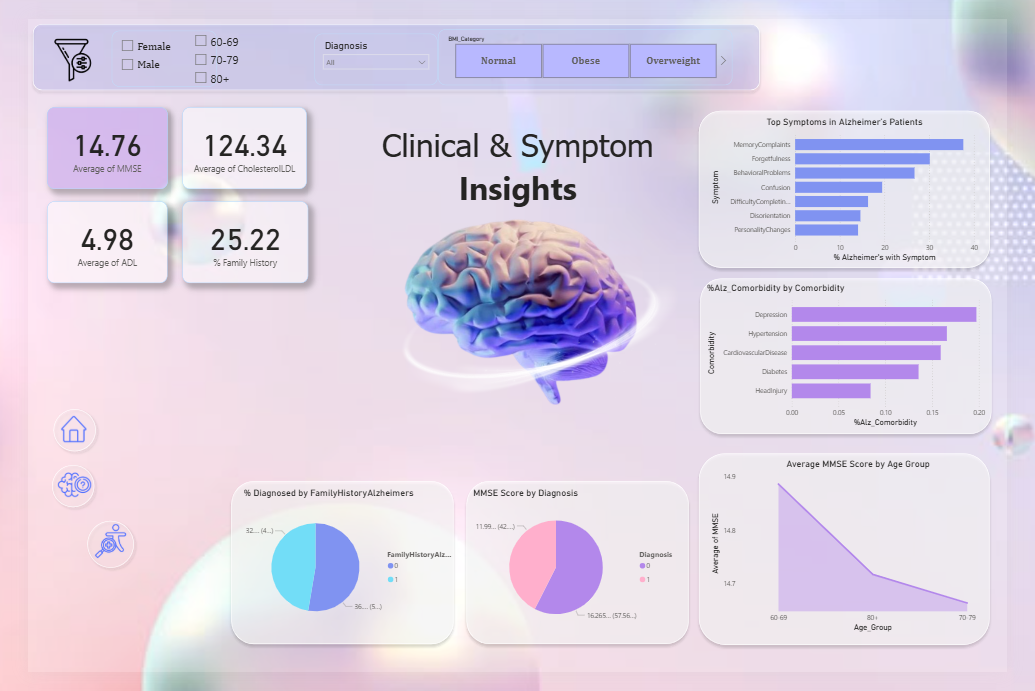

What the dashboard file says about the page in this screenshot:
{"tool":"powerbi","page":{"name":"Clinical & Symptom Insights","canvas":[1800,1200],"ordinal":2},"visuals":[{"type":"shape","box":[0,0,1354.5,140],"z":0},{"type":"image","box":[641,269.2,515.4,517.9],"z":1000},{"type":"shape","box":[364.3,841.1,426.8,317.9],"z":2000},{"type":"shape","box":[1226.7,466.7,553.3,304.4],"z":3000},{"type":"shape","box":[1223.5,788.2,552.9,370.6],"z":4000},{"type":"shape","box":[797.1,841.2,426.5,317.6],"z":5000},{"type":"shape","box":[1224.4,160,553.3,306.7],"z":6000},{"type":"slicer","fields":{"Values":["cleaned_alzheimers_disease_data.Age_Group"]},"box":[294.9,17.9,220.5,143.6],"z":7000},{"type":"slicer","fields":{"Values":["cleaned_alzheimers_disease_data.Gender"]},"box":[153.8,20.5,192.3,102.6],"z":8000},{"type":"card","fields":{"Values":["Avg(cleaned_alzheimers_disease_data.MMSE)"]},"box":[35.7,161.9,221.4,150],"z":9000},{"type":"card","title":"Highest Risk Age Group","fields":{"Values":["Avg(cleaned_alzheimers_disease_data.CholesterolLDL)"]},"box":[285,162.5,228.8,150],"z":10000},{"type":"card","fields":{"Values":["cleaned_alzheimers_disease_data.% Family History"]},"box":[285,335,231.2,150],"z":11000},{"type":"card","fields":{"Values":["Avg(cleaned_alzheimers_disease_data.ADL)"]},"box":[36.2,335,221.2,150],"z":12000},{"type":"textbox","box":[529.3,185.4,741.5,192.7],"z":13000},{"type":"pieChart","title":"MMSE Score by Diagnosis","fields":{"Category":["cleaned_alzheimers_disease_data.Diagnosis"],"Y":["Avg(cleaned_alzheimers_disease_data.MMSE)"]},"box":[812.2,863.4,395.1,273.2],"z":14000},{"type":"pieChart","fields":{"Category":["cleaned_alzheimers_disease_data.FamilyHistoryAlzheimers"],"Y":["cleaned_alzheimers_disease_data.% Diagnosed"]},"box":[392.7,863.4,397.6,273.2],"z":15000},{"type":"barChart","fields":{"Category":["ComorbidityData.Comorbidity"],"Y":["ComorbidityData.%Alz_Comorbidity"]},"box":[1242.2,484.4,522.2,271.1],"z":16000},{"type":"clusteredBarChart","title":"Top Symptoms in Alzheimer’s Patients","fields":{"Category":["SymptomsData.Symptom"],"Y":["SymptomsData.% Alzheimer Patients with Symptom"]},"box":[1251.1,177.8,500,273.3],"z":17000},{"type":"areaChart","title":"Average MMSE Score by Age Group","fields":{"Category":["cleaned_alzheimers_disease_data.Age_Group"],"Y":["Avg(cleaned_alzheimers_disease_data.MMSE)"]},"box":[1250,808.8,550,323.5],"z":18000},{"type":"shape","box":[36.6,707,95.8,95.8],"z":19000},{"type":"image","box":[40.6,721.9,87.5,66.7],"z":20000},{"type":"shape","box":[36.2,809.6,95.7,95.7],"z":21000},{"type":"image","box":[44.6,827.7,80.8,60.8],"z":22000},{"type":"shape","box":[100,912.7,103.6,104.5],"z":23000},{"type":"image","box":[102.7,920,100.7,78],"z":24000},{"type":"image","box":[620.5,228.2,617.9,730.8],"z":25000},{"type":"slicer","fields":{"Values":["cleaned_alzheimers_disease_data.Diagnosis"]},"box":[528.2,28.2,225.6,94.9],"z":26000},{"type":"slicer","fields":{"Values":["cleaned_alzheimers_disease_data.BMI_Category"]},"box":[753.8,17.9,541,102.6],"z":27000},{"type":"image","box":[43.6,28.2,79.5,94.9],"z":28000}]}

Visuals, with their boxes in screenshot pixels (x1, y1, x2, y2), scaled from the page's 1800x1200 canvas onto the 1035x691 screenshot:
shape: box=[0, 0, 779, 81]
image: box=[369, 155, 665, 453]
shape: box=[209, 484, 455, 667]
shape: box=[705, 269, 1023, 444]
shape: box=[704, 454, 1021, 667]
shape: box=[458, 484, 704, 667]
shape: box=[704, 92, 1022, 269]
slicer - cleaned_alzheimers_disease_data.Age_Group: box=[170, 10, 296, 93]
slicer - cleaned_alzheimers_disease_data.Gender: box=[88, 12, 199, 71]
card - Avg(cleaned_alzheimers_disease_data.MMSE): box=[21, 93, 148, 180]
"Highest Risk Age Group" card: box=[164, 94, 295, 180]
card - cleaned_alzheimers_disease_data.% Family History: box=[164, 193, 297, 279]
card - Avg(cleaned_alzheimers_disease_data.ADL): box=[21, 193, 148, 279]
textbox: box=[304, 107, 731, 218]
"MMSE Score by Diagnosis" pieChart: box=[467, 497, 694, 654]
pieChart - cleaned_alzheimers_disease_data.FamilyHistoryAlzheimers x cleaned_alzheimers_disease_data.% Diagnosed: box=[226, 497, 454, 654]
barChart - ComorbidityData.Comorbidity x ComorbidityData.%Alz_Comorbidity: box=[714, 279, 1015, 435]
"Top Symptoms in Alzheimer’s Patients" clusteredBarChart: box=[719, 102, 1007, 260]
"Average MMSE Score by Age Group" areaChart: box=[719, 466, 1034, 652]
shape: box=[21, 407, 76, 462]
image: box=[23, 416, 74, 454]
shape: box=[21, 466, 76, 521]
image: box=[26, 477, 72, 512]
shape: box=[57, 526, 117, 586]
image: box=[59, 530, 117, 575]
image: box=[357, 131, 712, 552]
slicer - cleaned_alzheimers_disease_data.Diagnosis: box=[304, 16, 433, 71]
slicer - cleaned_alzheimers_disease_data.BMI_Category: box=[433, 10, 745, 69]
image: box=[25, 16, 71, 71]
